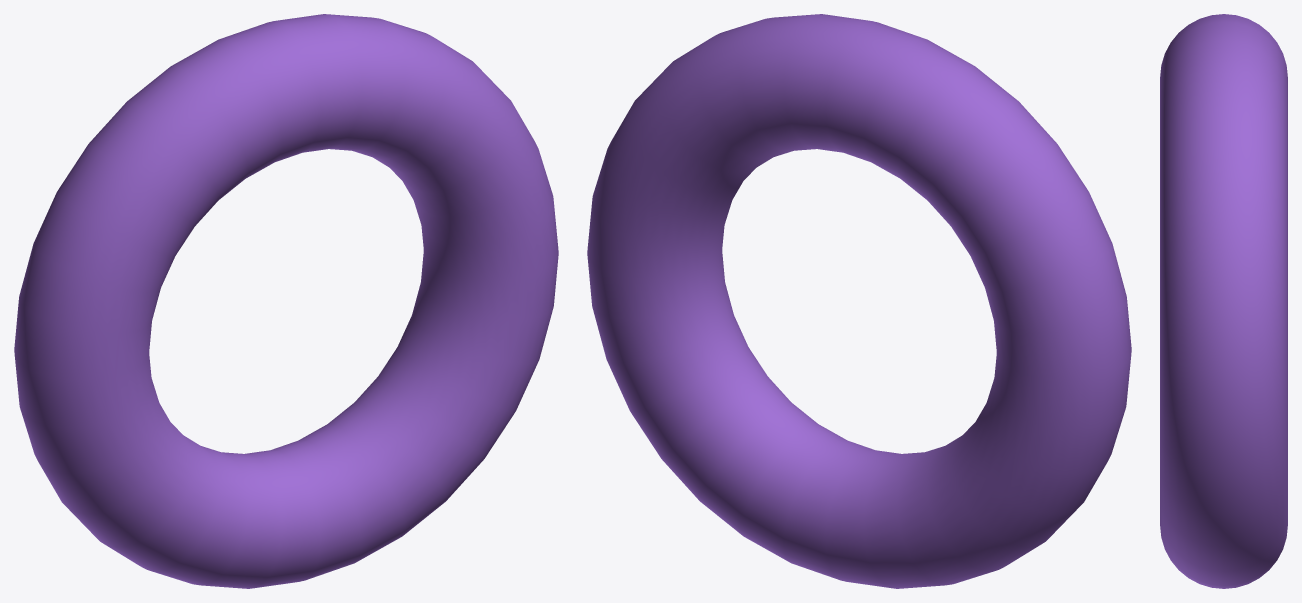
Rendered from expected.gltf.
3 views of the same model, side by side, from view 1: azimuth 30°, elevation 25°; view 2: azimuth 150°, elevation 25°; view 3: azimuth 270°, elevation 25° (orthographic). The views are drawn at different scales.
Size of the model in its own units: 0.036 by 0.036 by 0.008.
